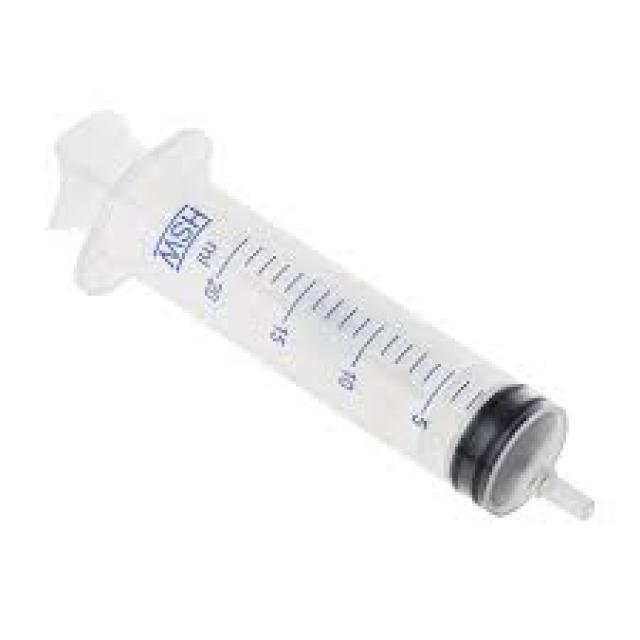syringe: (78, 126, 640, 556)
